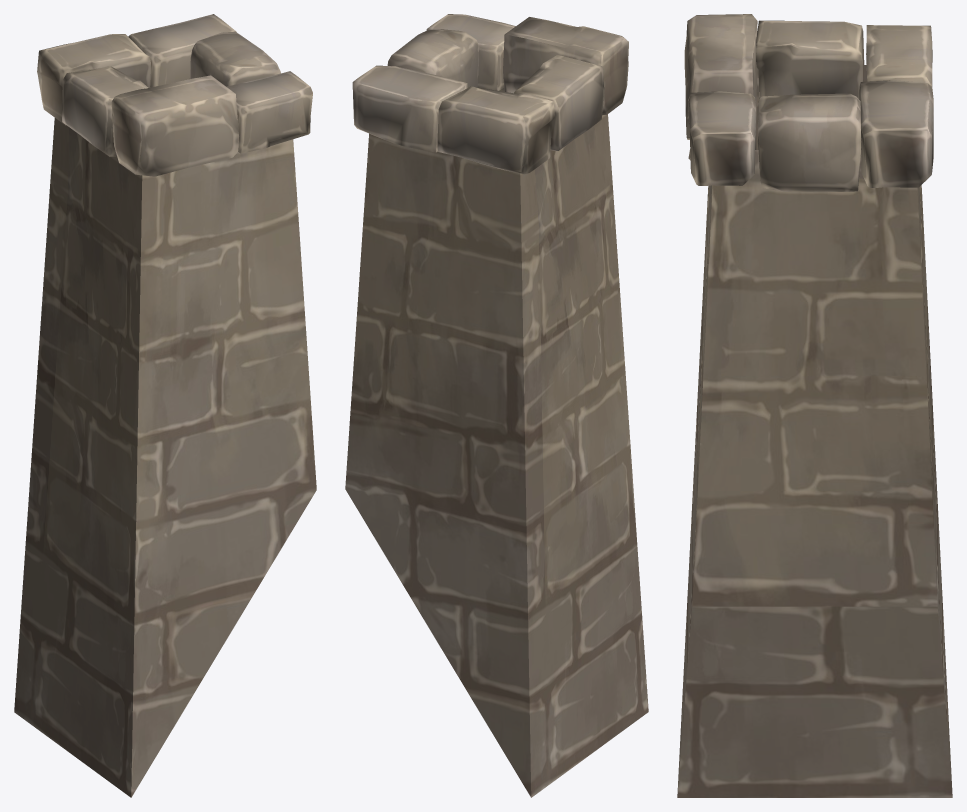
The model's file is Prop_Chimney.gltf.
3 renders of one model, left to right at view 1: azimuth 30°, elevation 25°; view 2: azimuth 150°, elevation 25°; view 3: azimuth 270°, elevation 25°, orthographic. The views are drawn at different scales.
Parts seen in each view (by area): view 1: Prop_Chimney; view 2: Prop_Chimney; view 3: Prop_Chimney.
Part boxes in pixels (x1,y1,x2,y2): Prop_Chimney: [14, 14, 316, 797]; Prop_Chimney: [345, 14, 648, 797]; Prop_Chimney: [677, 14, 952, 797].
Bounding box in the file's own units: 0.9458 × 3.18 × 1.
2 materials, 2 textured.
